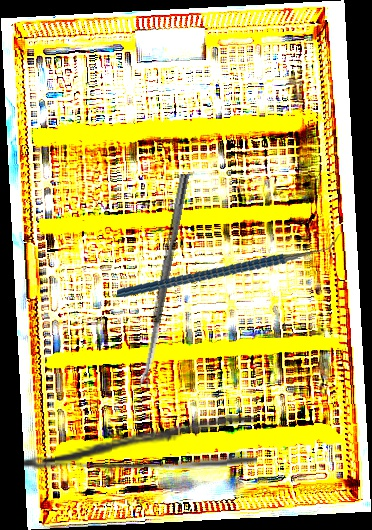Chopper: (116, 206, 342, 323)
Dressing Forceps: (23, 414, 258, 473)
Surgical Spoon: (137, 173, 190, 389)
